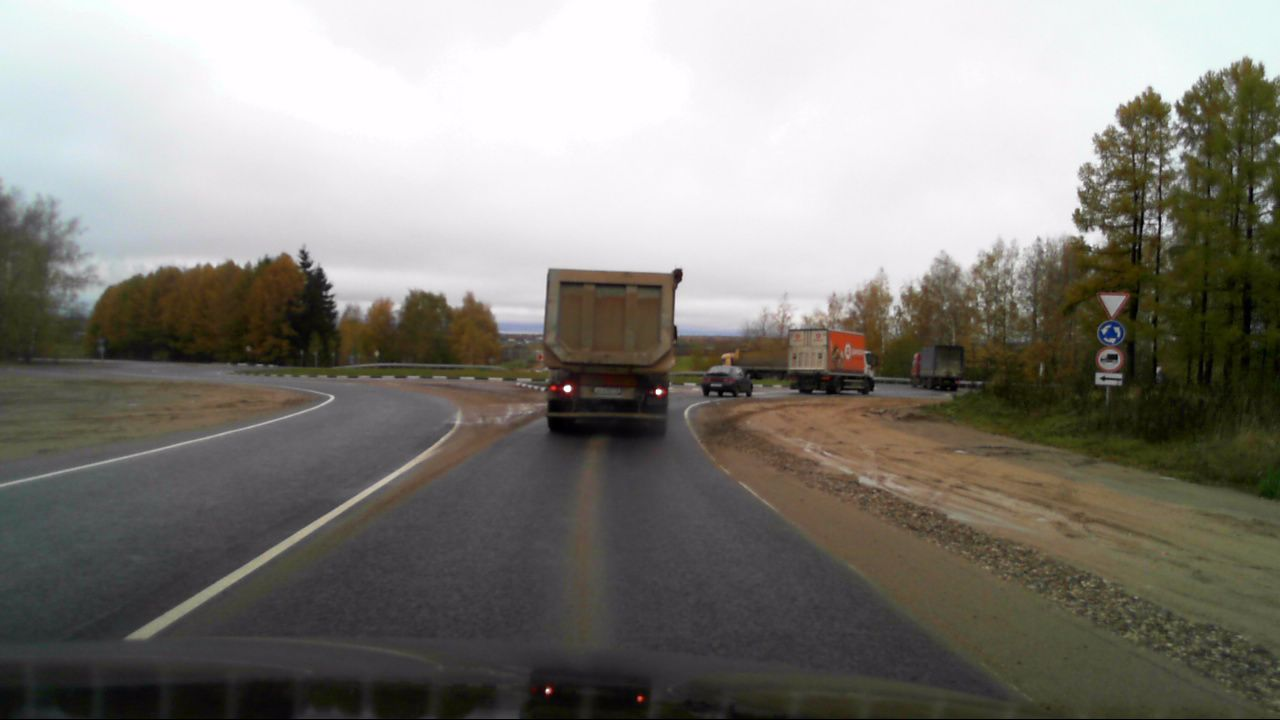Round-About: (1096, 320, 1124, 345)
